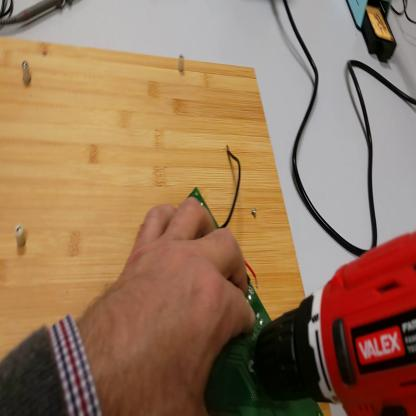electric screwdriver: (250, 230, 416, 416)
hand: (92, 196, 259, 414)
low voltage board: (187, 187, 322, 415)
oscilloscope probe tip: (5, 3, 79, 22)
welder base: (348, 1, 398, 70)
working area: (2, 41, 331, 416)
